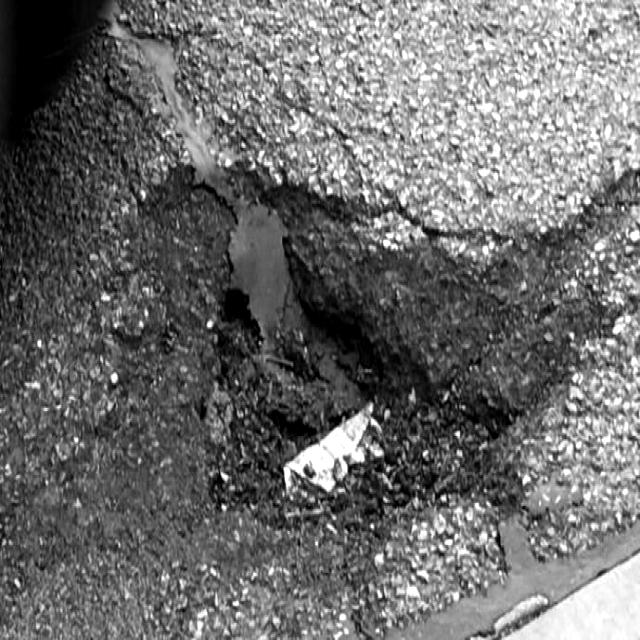pathole: (106, 58, 493, 556)
